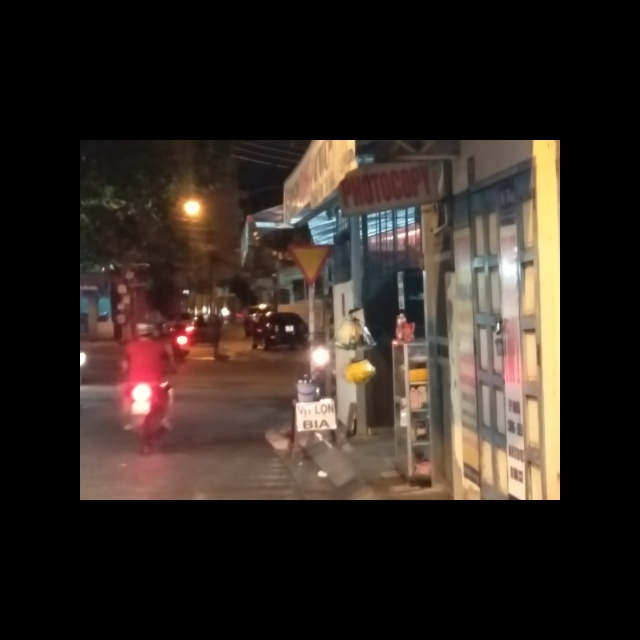Giao nhau với đường ưu tiên: (287, 243, 335, 283)
